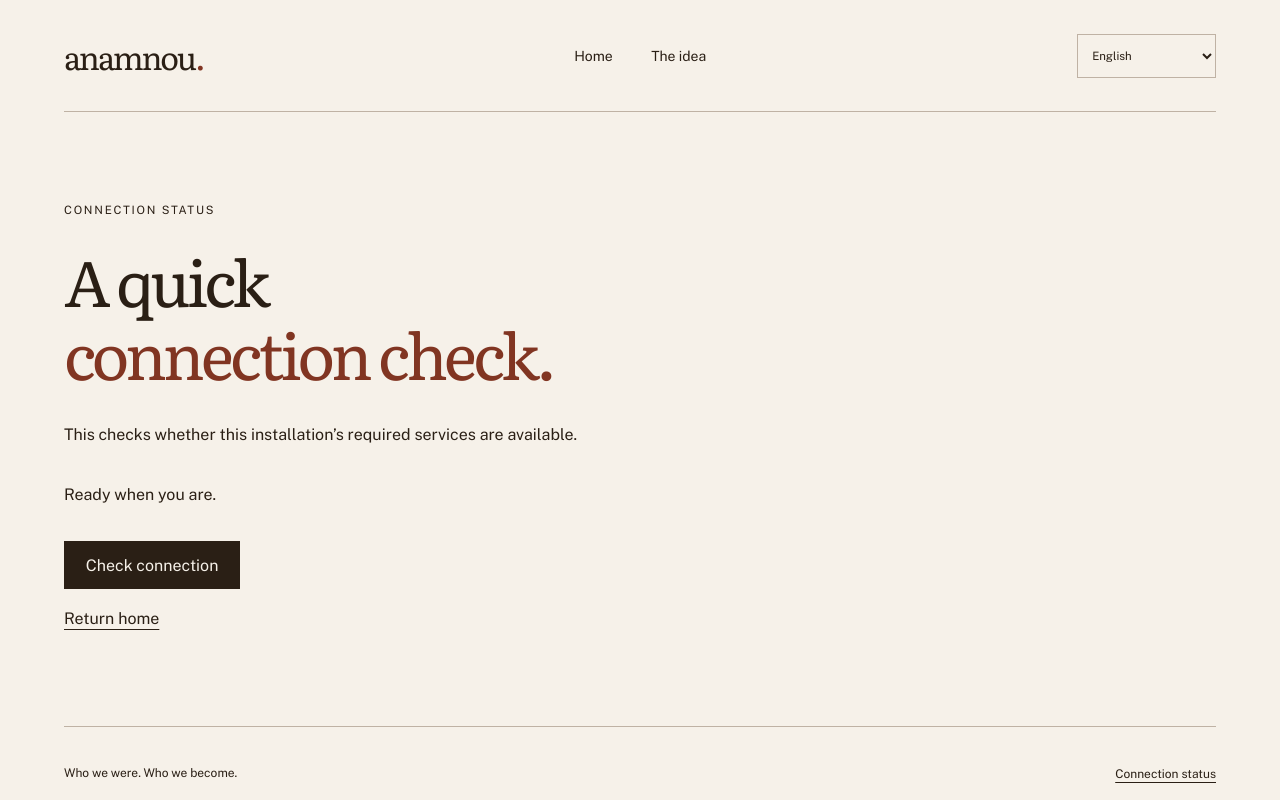
foundation shell › does not accept an invalid successful API body
Click the button "Check connection" at (152, 565), box [64,541,240,589]
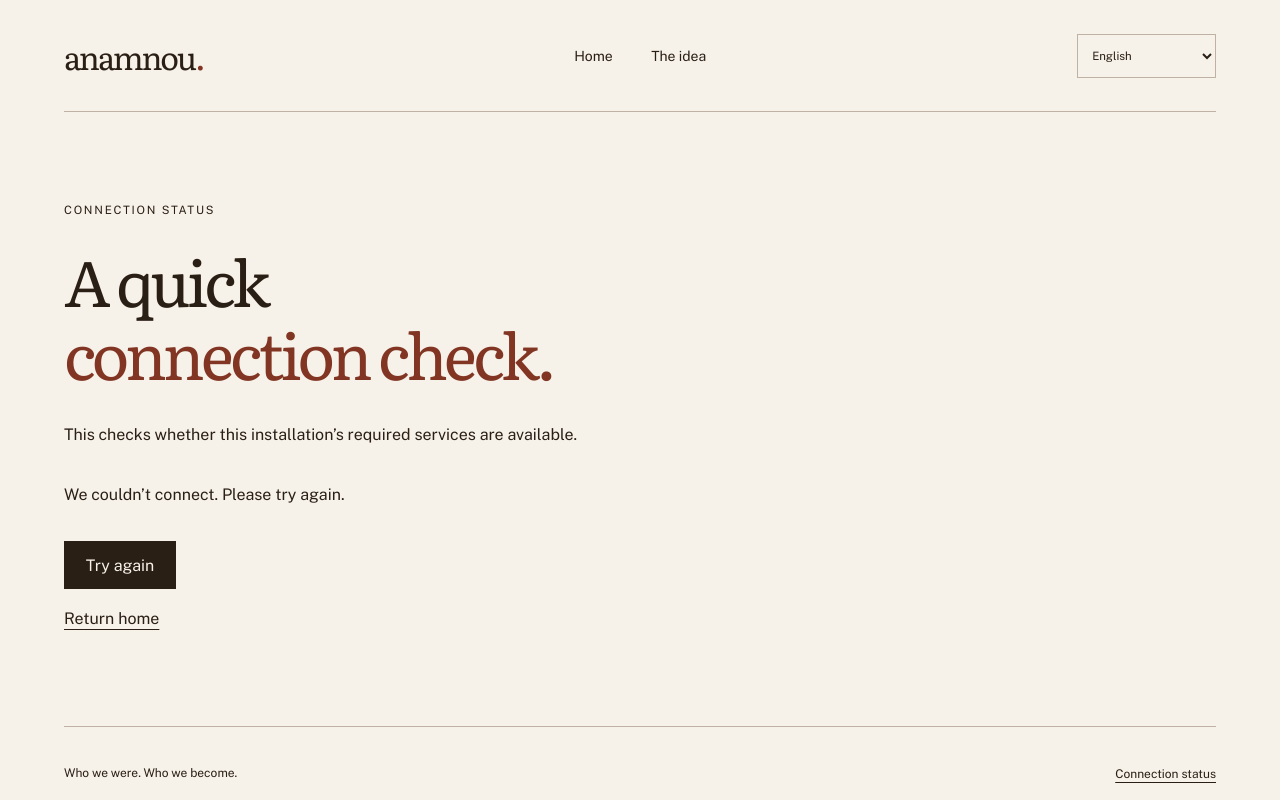
Expected: the button "Try again" is shown, [64,541,176,589]
